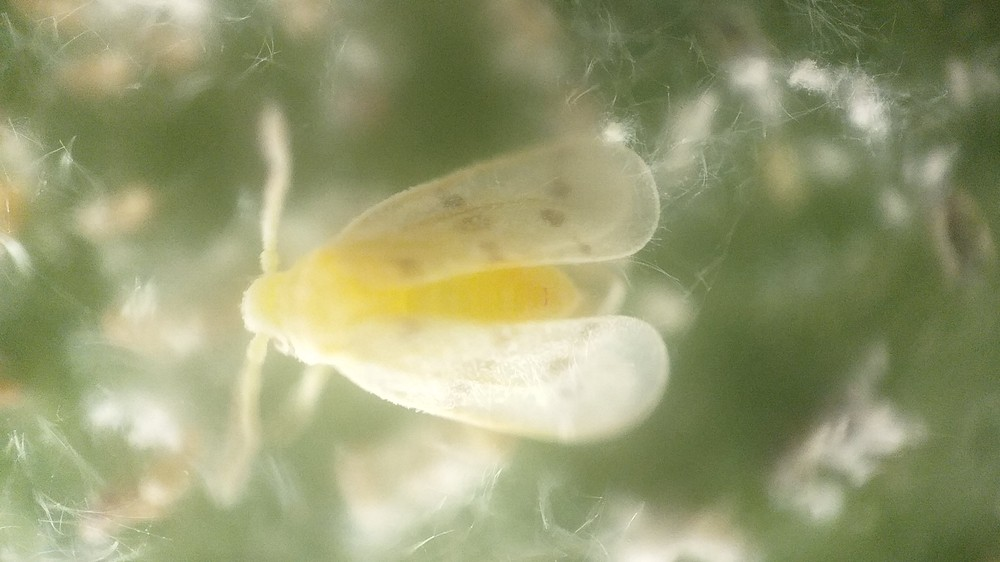Mosca Blanca: (190, 89, 703, 516)
